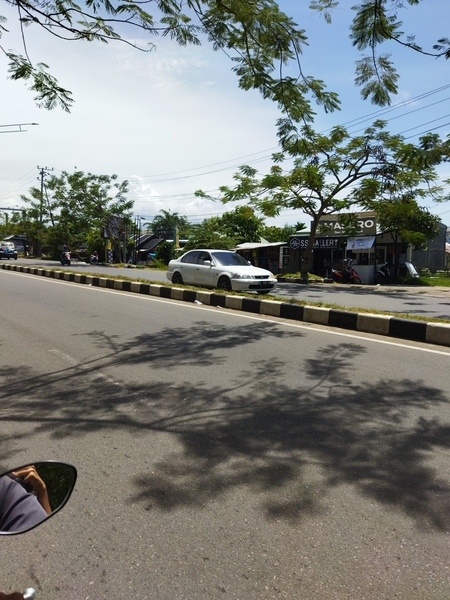car: (162, 248, 279, 298)
